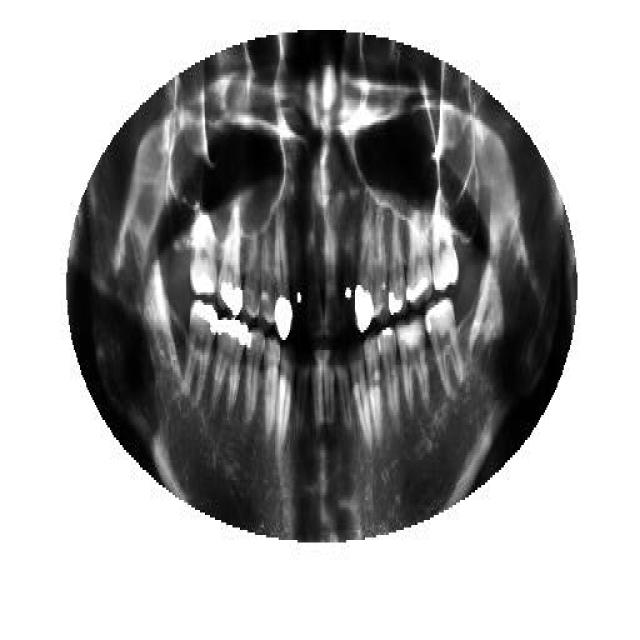Fillings: (184, 300, 215, 405), (215, 318, 246, 418), (353, 200, 375, 340), (218, 198, 244, 312), (405, 210, 434, 310), (272, 208, 292, 340), (387, 205, 405, 315), (246, 322, 265, 422)
